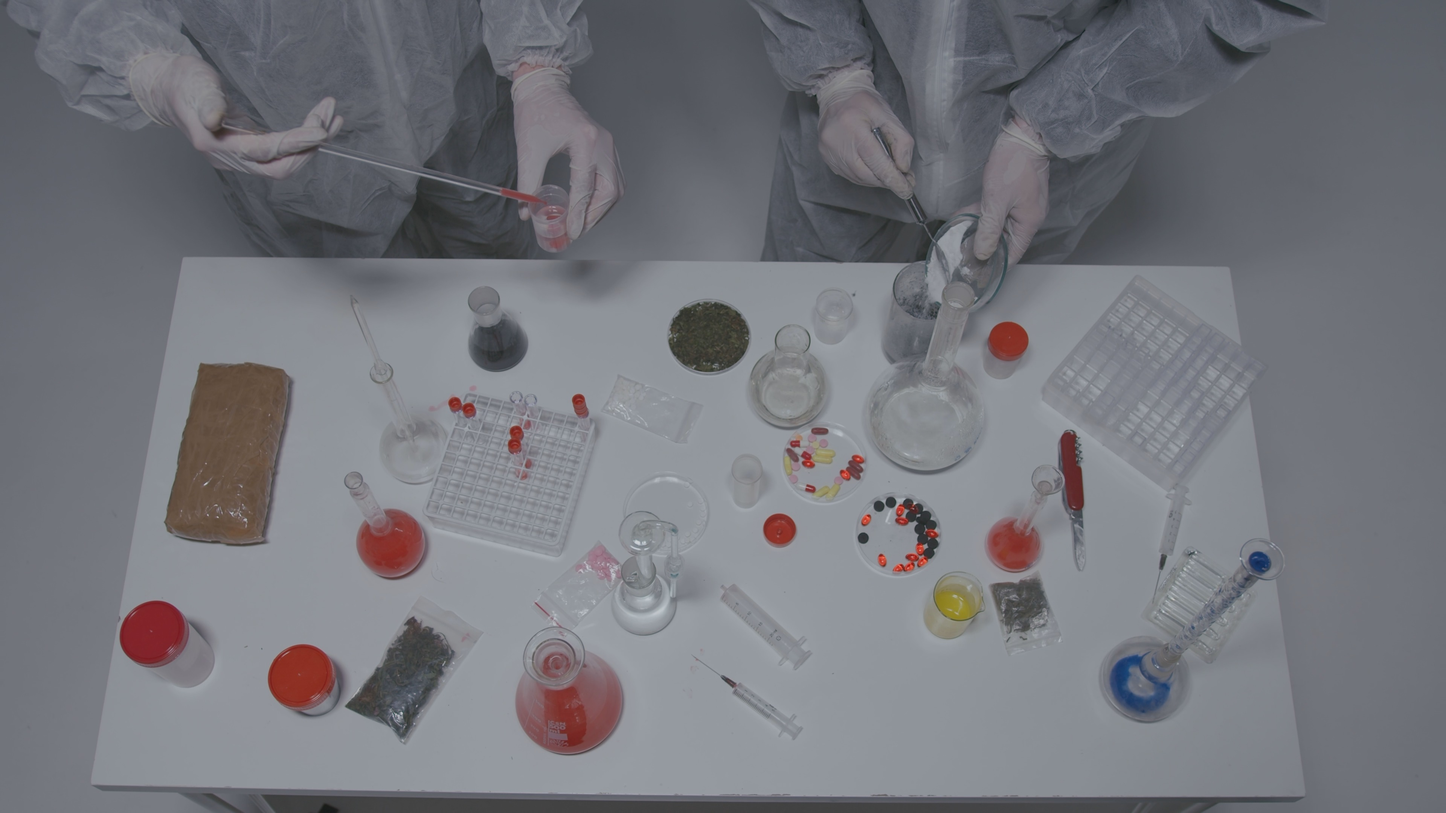gloves: (105, 34, 349, 182), (482, 68, 633, 251), (796, 46, 927, 222), (958, 123, 1064, 281)
